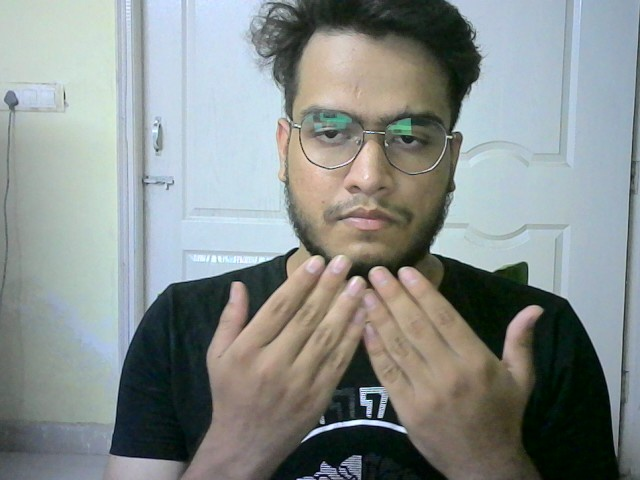Thank You: (207, 251, 545, 448)
